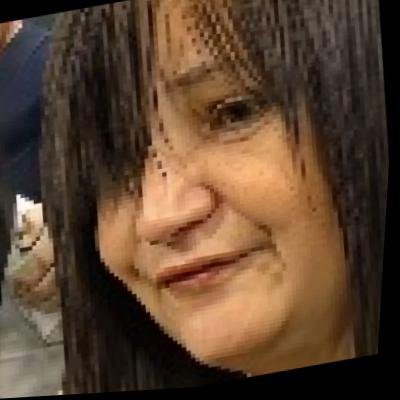sad: (43, 0, 390, 391)
